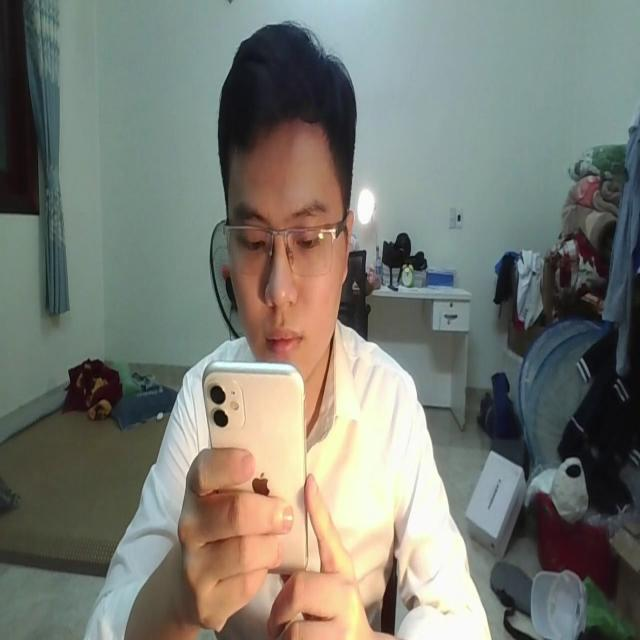phone: (201, 356, 315, 572)
student: (87, 24, 482, 640)
